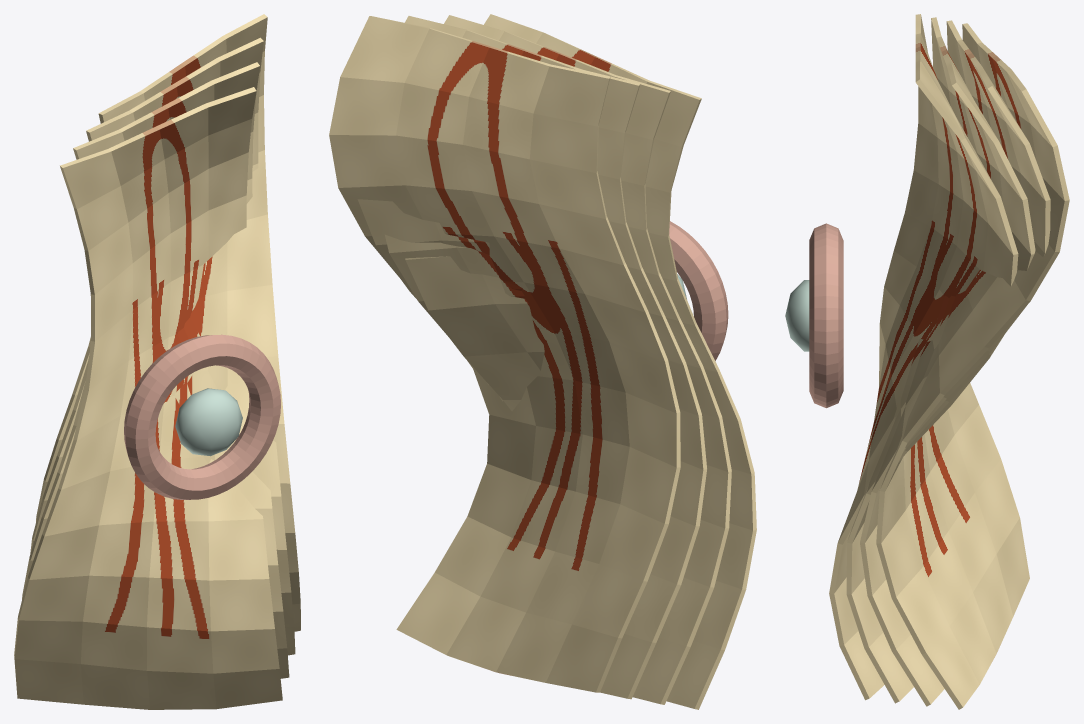
The model's file is Test_CheonRef_TalismanBundle.fbx.
The picture shows the model from 3 angles, left to right: view 1: azimuth 30°, elevation 25°; view 2: azimuth 150°, elevation 25°; view 3: azimuth 270°, elevation 25°; orthographic projection. The views are drawn at different scales.
Parts seen in each view (by area): view 1: CurvedHanjiTalisman.002, CurvedHanjiTalisman.005, TalismanBundleKnot, CurvedHanjiTalisman.003, CurvedHanjiTalisman.004, KnotJadeBead; view 2: CurvedHanjiTalisman.005, CurvedHanjiTalisman.002, CurvedHanjiTalisman.004, CurvedHanjiTalisman.003, TalismanBundleKnot; view 3: CurvedHanjiTalisman.005, CurvedHanjiTalisman.002, CurvedHanjiTalisman.004, CurvedHanjiTalisman.003, TalismanBundleKnot, KnotJadeBead.
Part boxes in pixels (<box>): CurvedHanjiTalisman.002: <box>14,87,282,709</box>; CurvedHanjiTalisman.005: <box>36,14,300,631</box>; TalismanBundleKnot: <box>124,334,280,499</box>; CurvedHanjiTalisman.003: <box>22,62,289,678</box>; CurvedHanjiTalisman.004: <box>30,37,295,655</box>; KnotJadeBead: <box>175,388,242,456</box>; CurvedHanjiTalisman.005: <box>329,16,680,692</box>; CurvedHanjiTalisman.002: <box>405,14,756,709</box>; CurvedHanjiTalisman.004: <box>357,16,706,699</box>; CurvedHanjiTalisman.003: <box>385,15,731,704</box>; TalismanBundleKnot: <box>669,221,728,360</box>; CurvedHanjiTalisman.005: <box>876,23,1069,709</box>; CurvedHanjiTalisman.002: <box>829,14,1018,700</box>; CurvedHanjiTalisman.004: <box>860,20,1050,706</box>; CurvedHanjiTalisman.003: <box>846,17,1035,703</box>; TalismanBundleKnot: <box>809,223,843,408</box>; KnotJadeBead: <box>785,280,809,351</box>.
Size of the model in its own units: 55.29 by 104 by 41.49.
